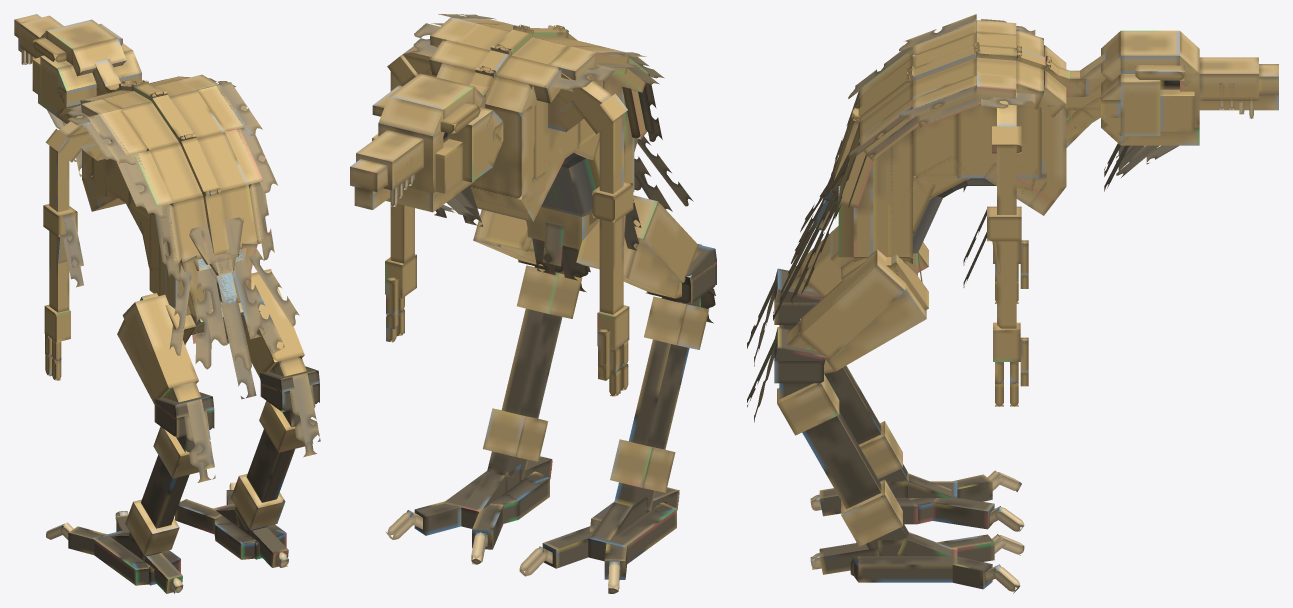
Rendered from Ravenkin.obj.
3 views of the same model, side by side, from view 1: azimuth 30°, elevation 25°; view 2: azimuth 150°, elevation 25°; view 3: azimuth 270°, elevation 25° (orthographic). The views are drawn at different scales.
Visible parts, largest first — view 1: cube, shoulders; view 2: cube, shoulders; view 3: cube.
Boxes of the visible parts, <box> form: cube: <box>14,14,320,593</box>; shoulders: <box>58,116,105,160</box>; cube: <box>350,14,716,593</box>; shoulders: <box>402,45,612,131</box>; cube: <box>747,14,1278,593</box>.
Bounding box in the file's own units: 0.8032 × 1.74 × 1.68.
